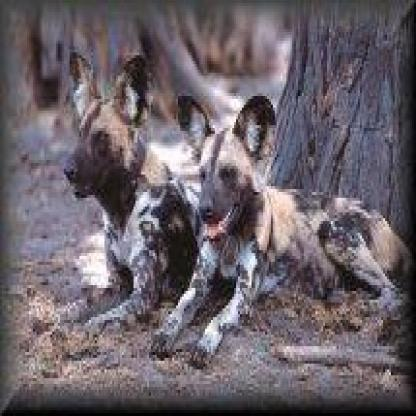African_hunting_dog: (143, 81, 412, 376), (29, 47, 199, 338)
